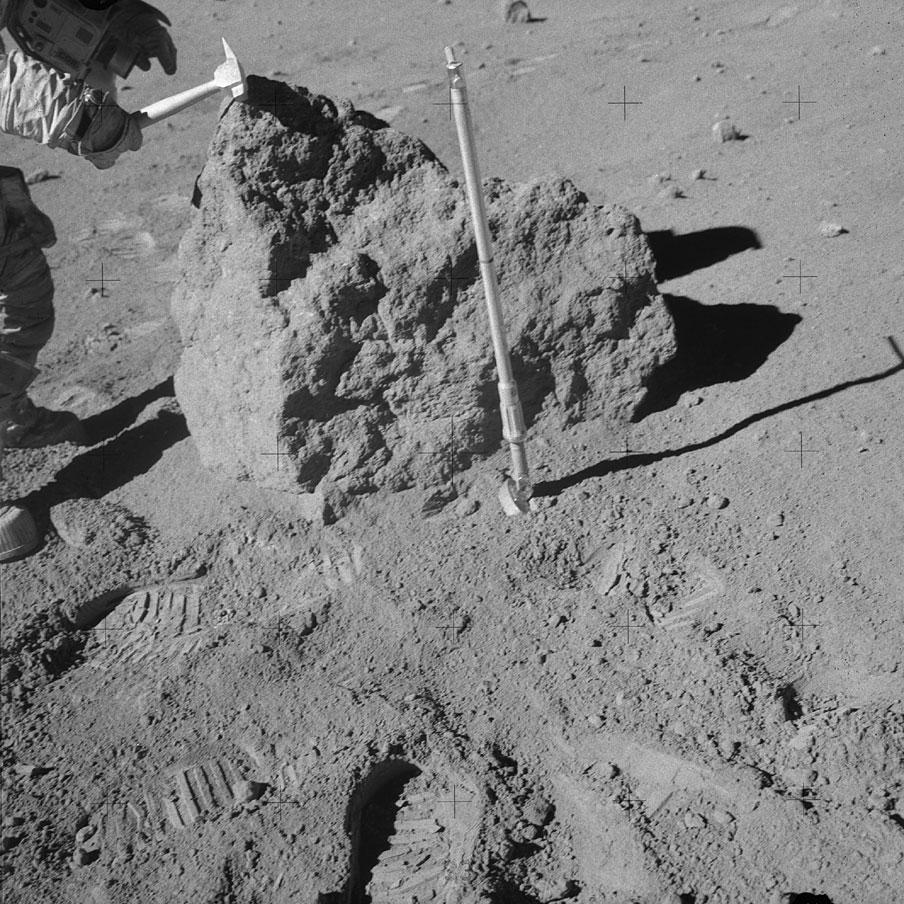rock: (173, 76, 501, 516), (486, 177, 676, 426)
